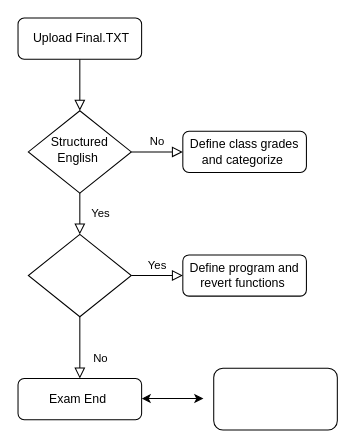
This 355x448 diagram has some shape labels left out. Here are the shapes that lost their labels. From the top down, the box of each, then its label:
(27, 233, 131, 317): Puesdocode
(213, 367, 337, 430): Run Program Visual Studio Code
